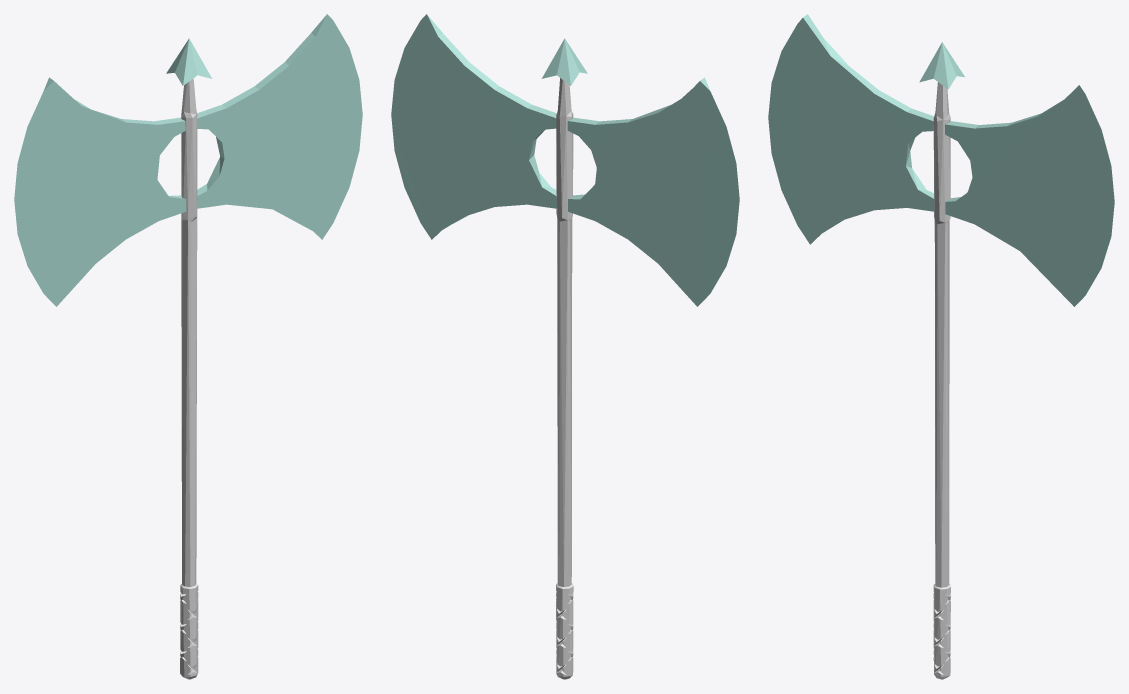
The model's file is MtKingAxe.glb.
The picture shows the model from 3 angles, left to right: view 1: azimuth 30°, elevation 25°; view 2: azimuth 150°, elevation 25°; view 3: azimuth 330°, elevation 25°; orthographic projection.
Parts seen in each view (by area): view 1: Blade Parts, Pole; view 2: Blade Parts, Pole; view 3: Blade Parts, Pole.
Part boxes in pixels (x1,y1,x2,y2): Blade Parts: (14, 14, 362, 306); Pole: (180, 78, 198, 679); Blade Parts: (391, 14, 739, 306); Pole: (556, 78, 573, 679); Blade Parts: (768, 14, 1114, 306); Pole: (933, 82, 950, 679).
Bounding box in the file's own units: 2.91 × 5.12 × 0.2458.
